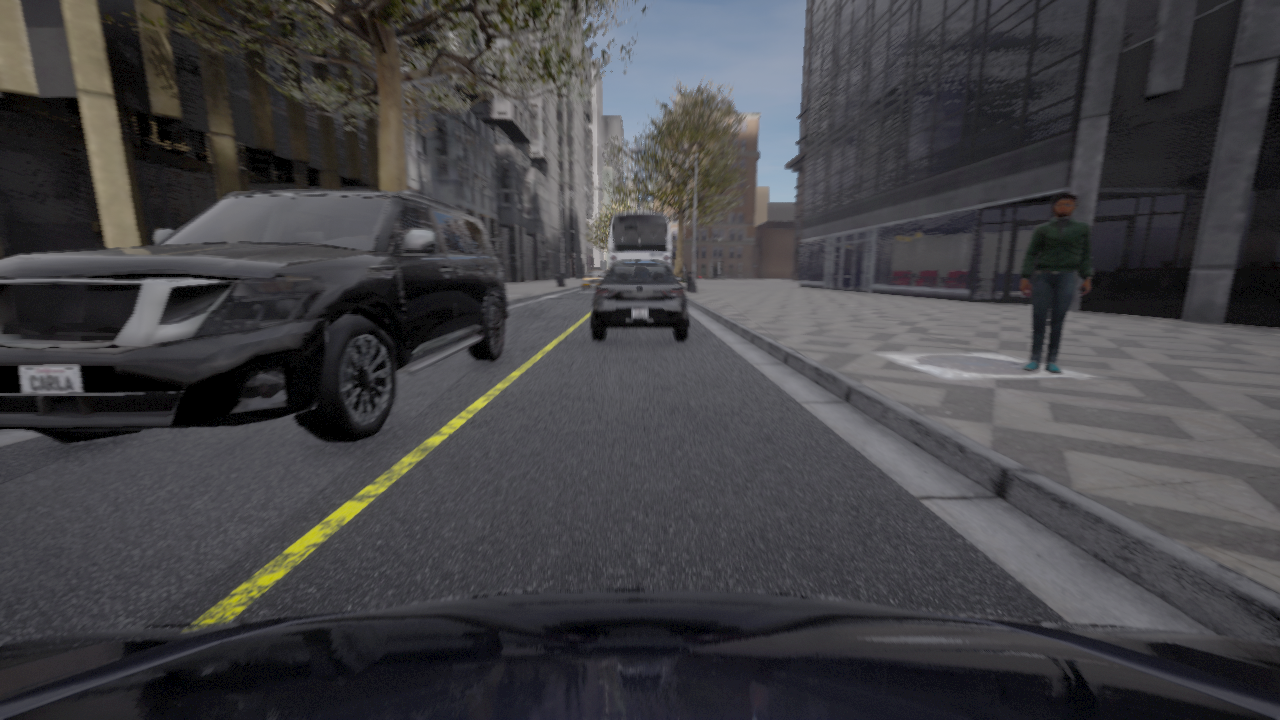cyclist: (0, 588, 1279, 719), (0, 188, 508, 443), (591, 259, 688, 339), (608, 211, 670, 268), (581, 268, 606, 290), (606, 269, 608, 271)
pedestrian: (1019, 192, 1092, 373)
